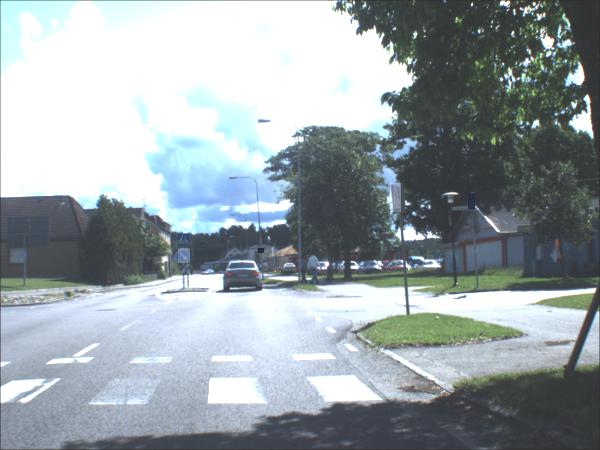PASS_RIGHT_SIDE: (179, 249, 192, 265)
PEDESTRIAN_CROSSING: (392, 184, 404, 214), (179, 234, 192, 248), (469, 194, 477, 211)
PRIORITY_ROAD: (259, 249, 266, 255)
